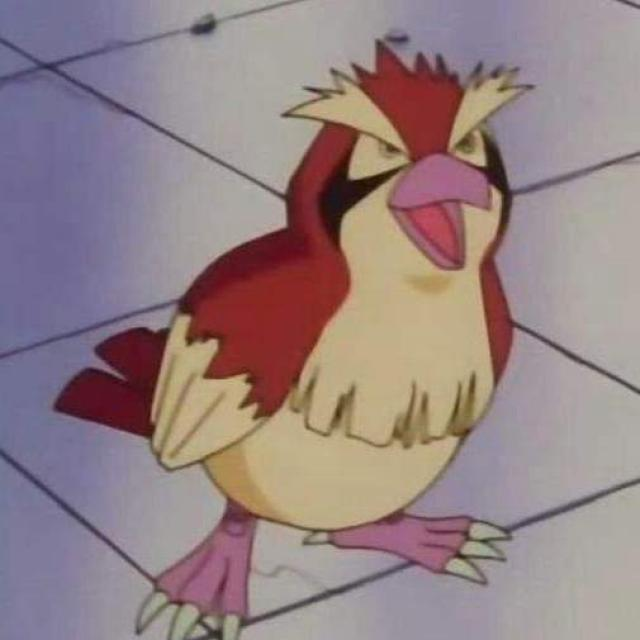Pidgey: (97, 42, 516, 633)
